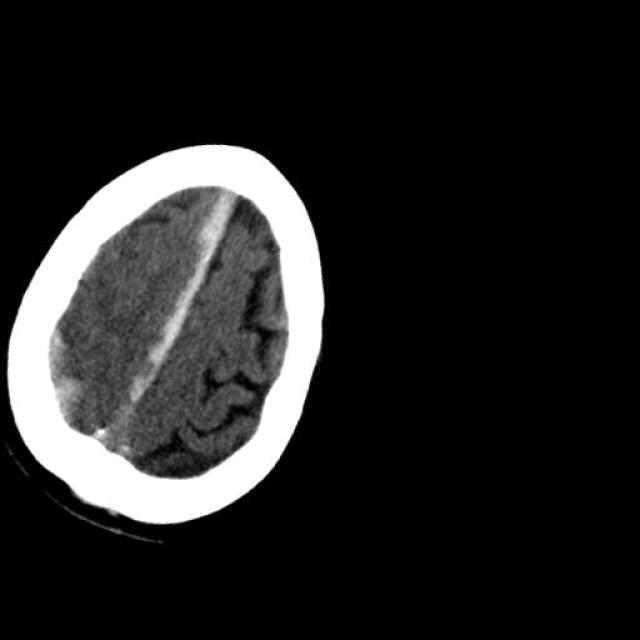Intraparenchymal: (24, 317, 104, 432)
Subdural: (88, 173, 262, 472)
